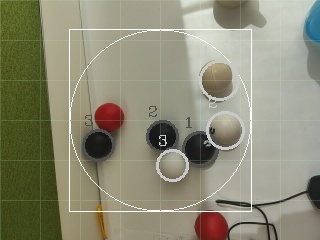Pelota blanca: (211, 0, 266, 30), (205, 109, 245, 150), (197, 59, 235, 102), (155, 149, 190, 183), (227, 221, 279, 240), (305, 35, 320, 84)
Pelota negra: (145, 119, 179, 153), (83, 129, 114, 162), (303, 0, 320, 45), (305, 173, 320, 210)
Pelota roja: (193, 211, 229, 240), (93, 101, 124, 132)
